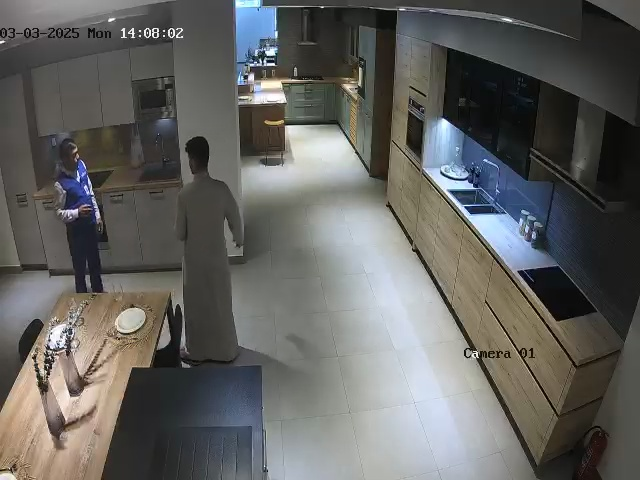employee: (52, 138, 106, 294)
male: (174, 135, 244, 365)
